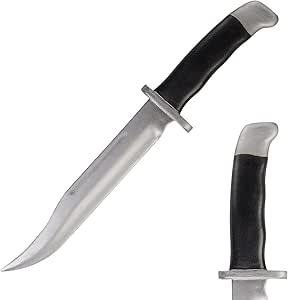Knife: (0, 0, 278, 271), (221, 121, 287, 300)
